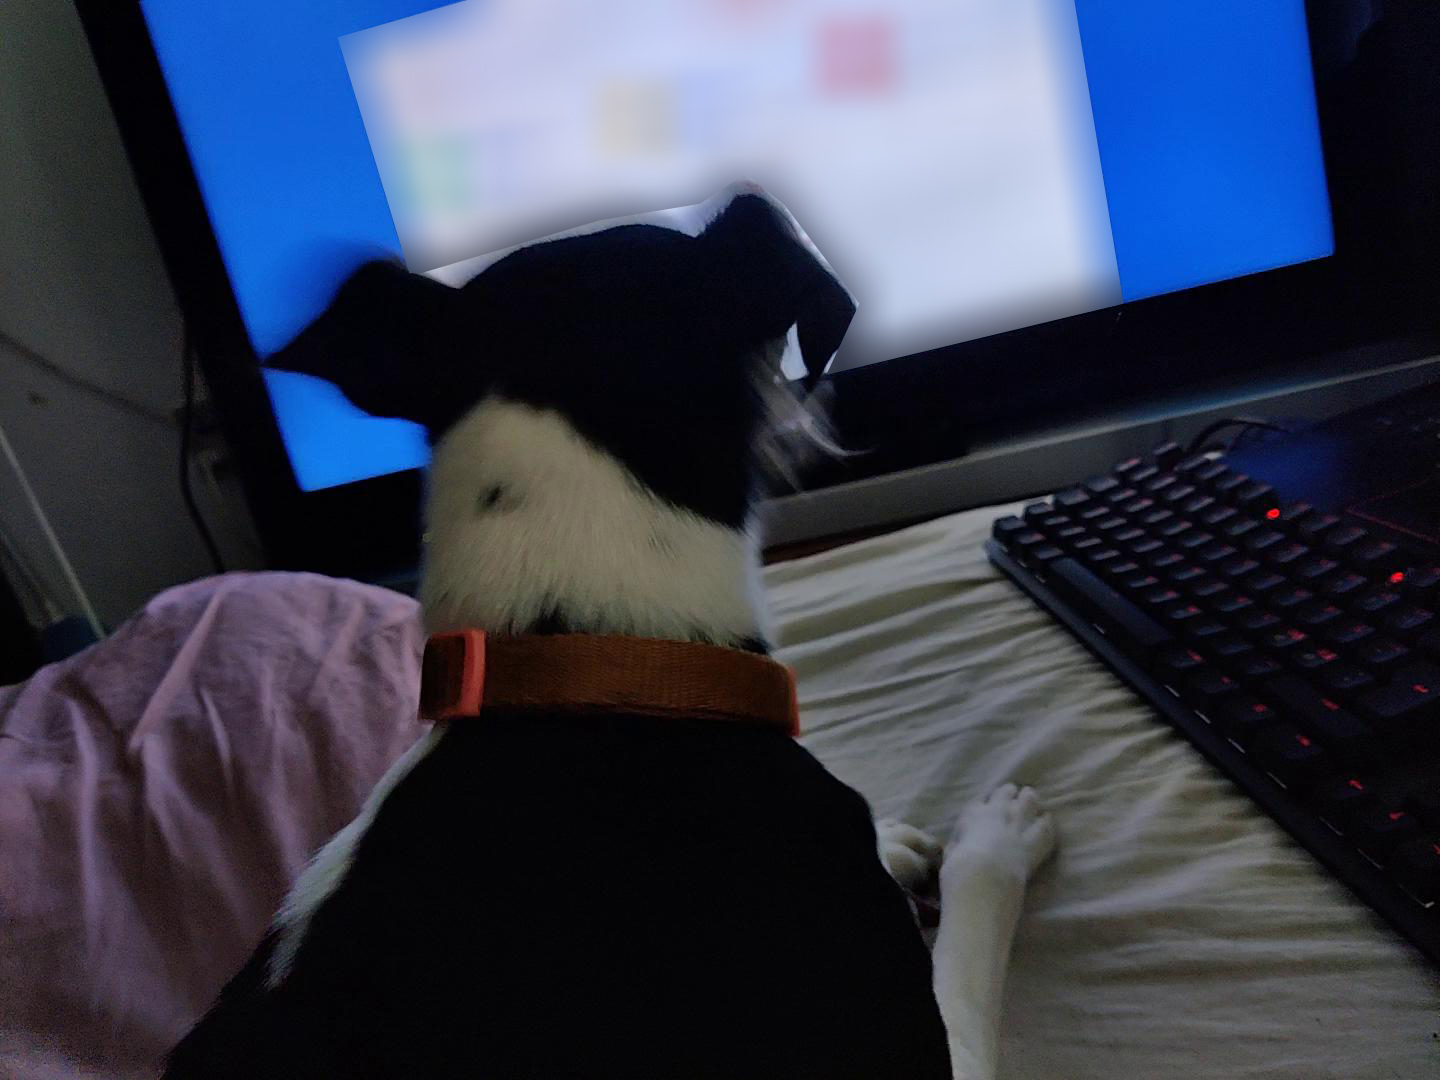Dog: (146, 174, 1064, 1079)
